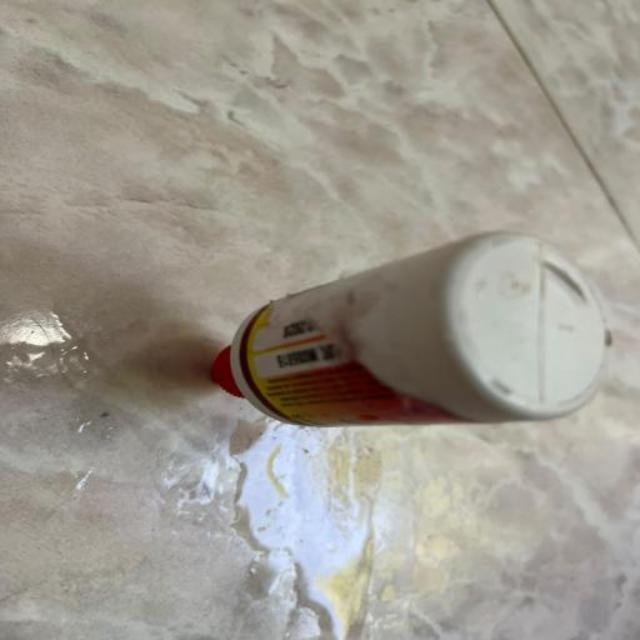HDPE: (179, 172, 601, 611)
